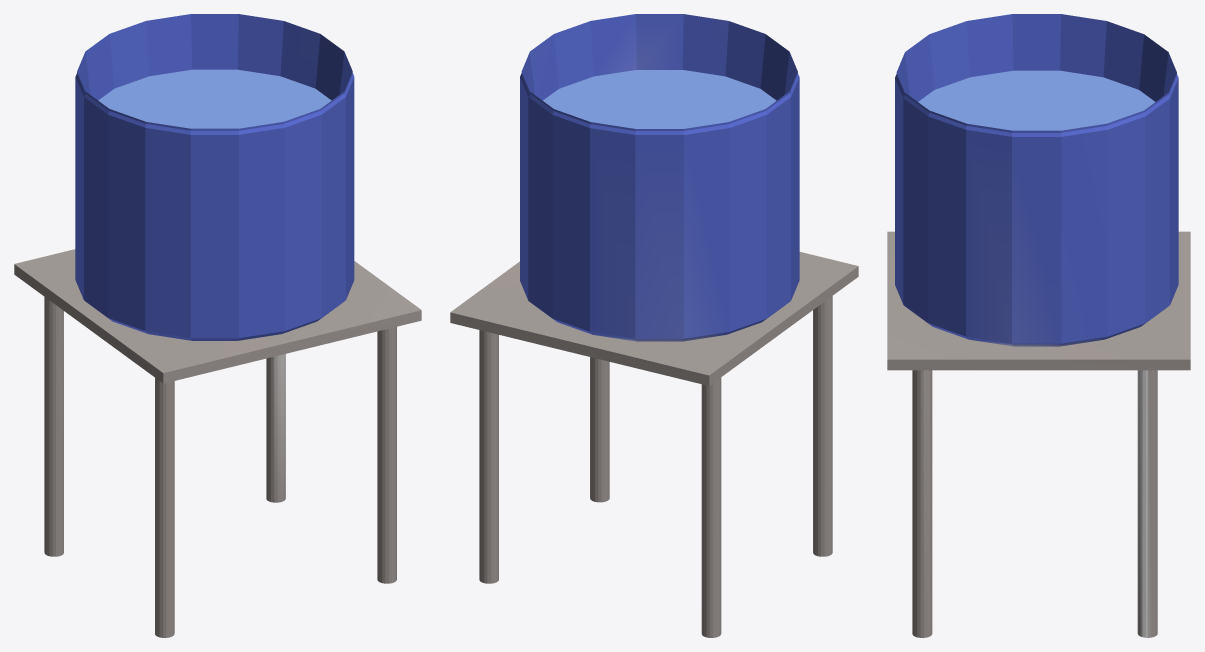
The model's file is caixa_agua.fbx.
3 views of the same model, side by side, from view 1: azimuth 30°, elevation 25°; view 2: azimuth 150°, elevation 25°; view 3: azimuth 270°, elevation 25° (orthographic).
Visible parts, largest first — view 1: caixa_agua; view 2: caixa_agua; view 3: caixa_agua.
Part boxes in pixels (x1,y1,x2,y2): caixa_agua: (14,14,421,637); caixa_agua: (450,14,858,637); caixa_agua: (887,14,1190,637).
Size of the model in its own units: 341 by 624 by 341.
